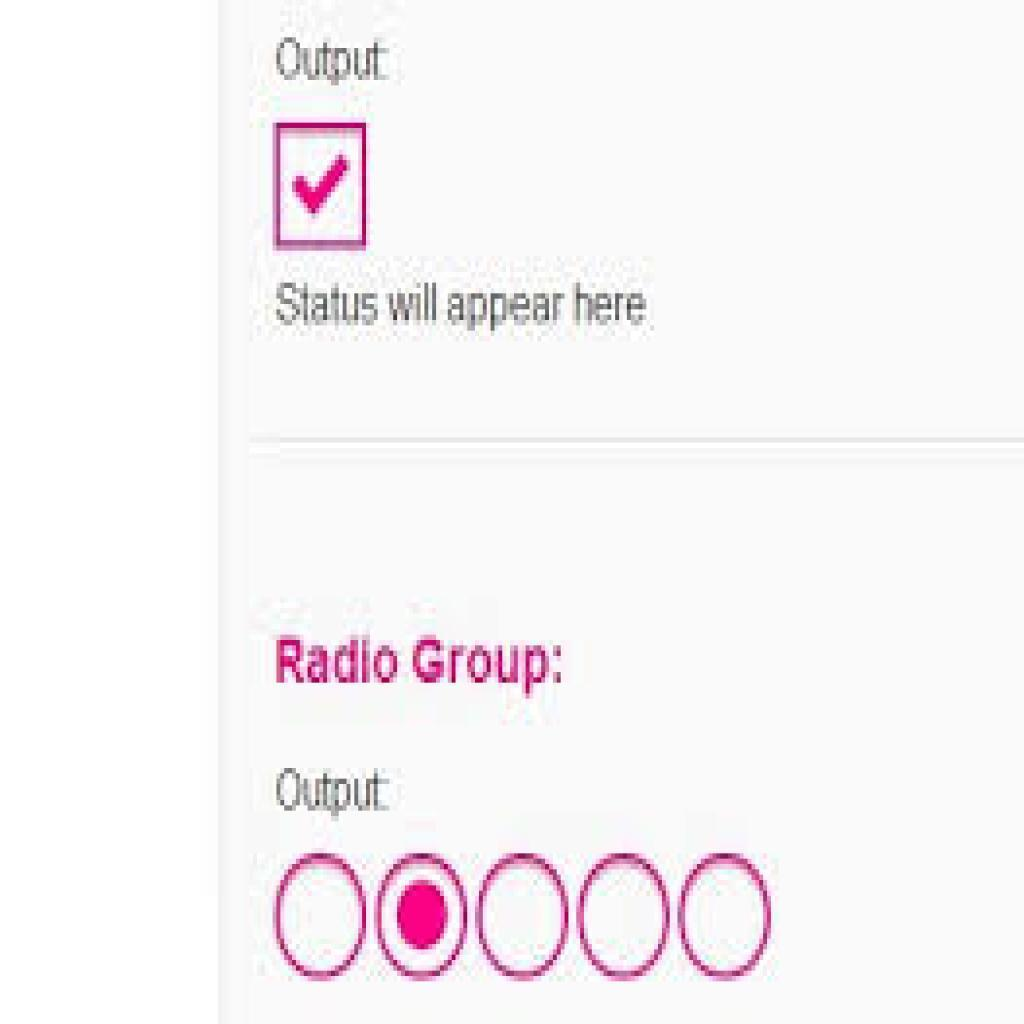checkbox: (274, 122, 370, 251)
label: (275, 762, 404, 821), (275, 30, 396, 86)
radio: (575, 852, 673, 985), (373, 852, 473, 982), (271, 852, 369, 983), (475, 850, 569, 984), (679, 853, 772, 983)
